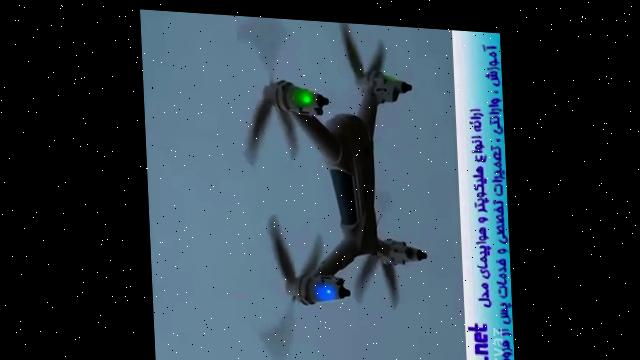drone: (228, 12, 431, 360)
